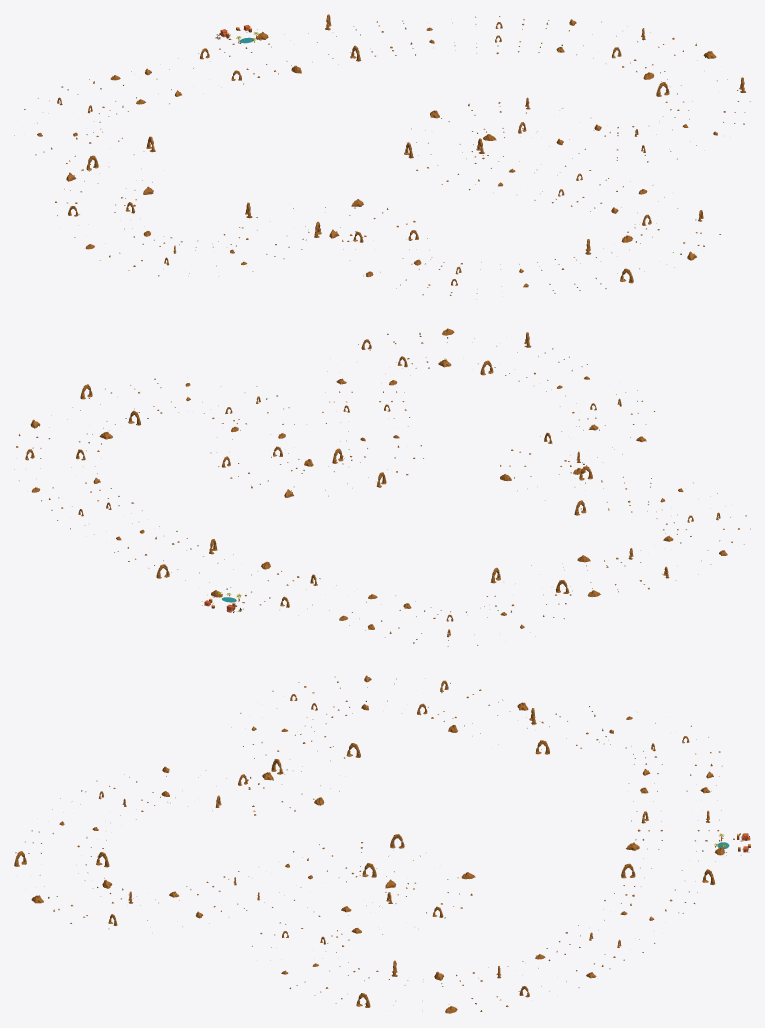
File: desert-scenery.glb
The picture shows the model from 3 angles, top to bottom: view 1: azimuth 30°, elevation 25°; view 2: azimuth 150°, elevation 25°; view 3: azimuth 270°, elevation 25°; orthographic projection. The views are drawn at different scales.
Bounding box in the file's own units: 1336 × 24.46 × 1237.
72 materials, 25 textured.
